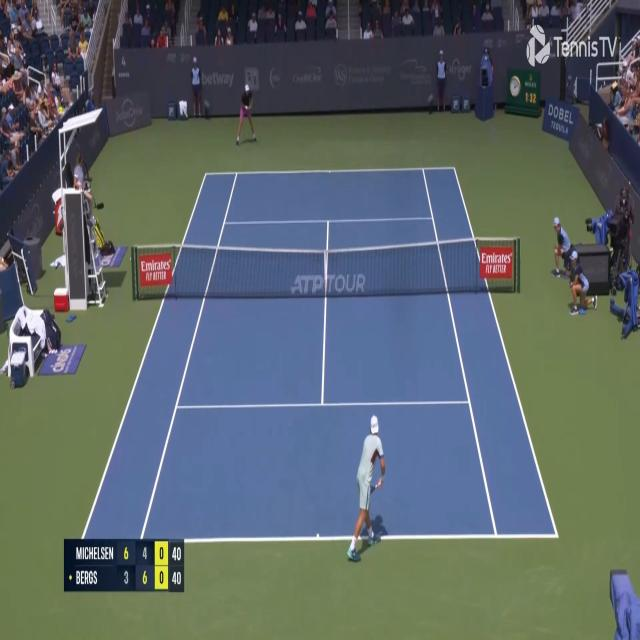tennis-player: (344, 411, 389, 566), (235, 83, 259, 146)
